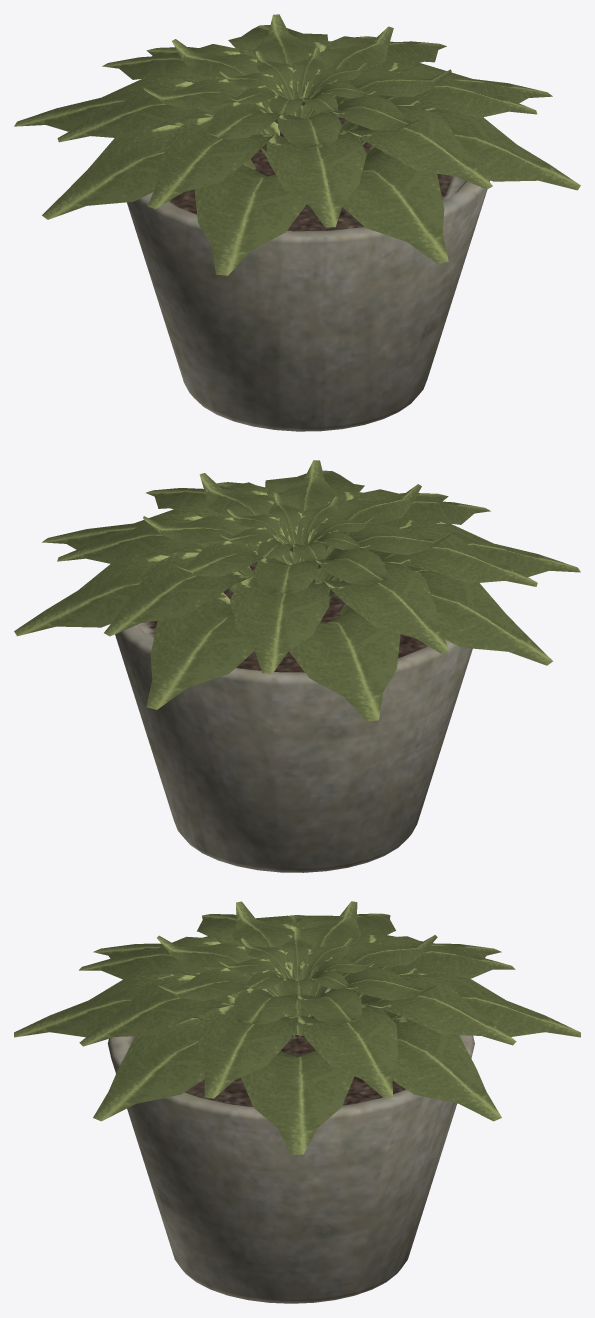
The model's file is mdl_Blumentopf.fbx.
The picture shows the model from 3 angles, top to bottom: view 1: azimuth 30°, elevation 25°; view 2: azimuth 150°, elevation 25°; view 3: azimuth 270°, elevation 25°; orthographic projection. The views are drawn at different scales.
Parts seen in each view (by area): view 1: Blumentopf.001; view 2: Blumentopf.001; view 3: Blumentopf.001.
Boxes of the visible parts, box(x1,y1,x2,y2) form: Blumentopf.001: box(14, 14, 580, 431); Blumentopf.001: box(14, 460, 580, 872); Blumentopf.001: box(14, 901, 580, 1303).
Bounding box in the file's own units: 84.65 × 48.58 × 84.65.
